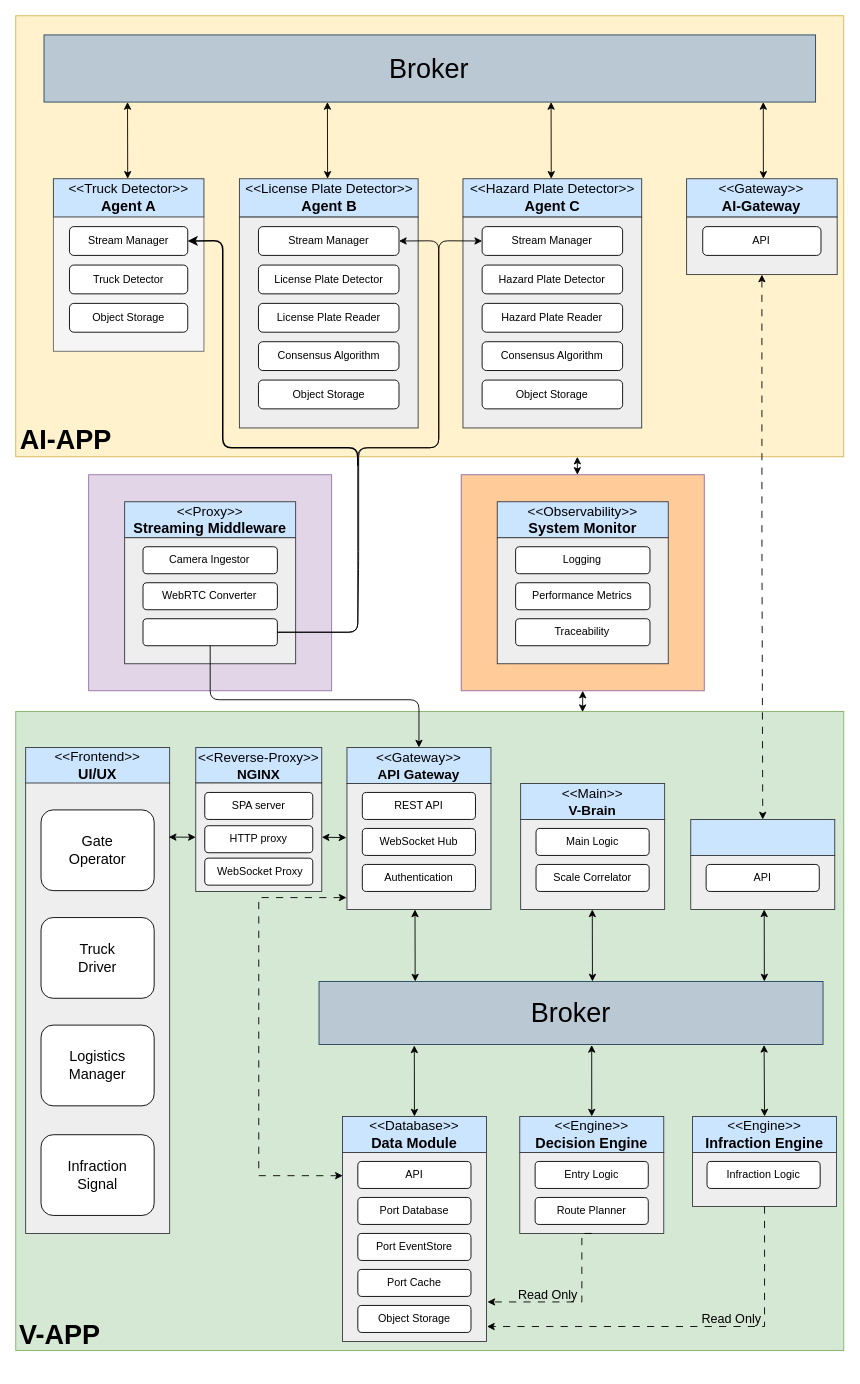
Some shapes in this 860 by 1384 pixel diagram are drawn without their labels. Each missing label, with the centre of its shape:
<<Gateway>> V-Gateway: point (762, 837)
Stream Dispatcher: point (209, 632)
